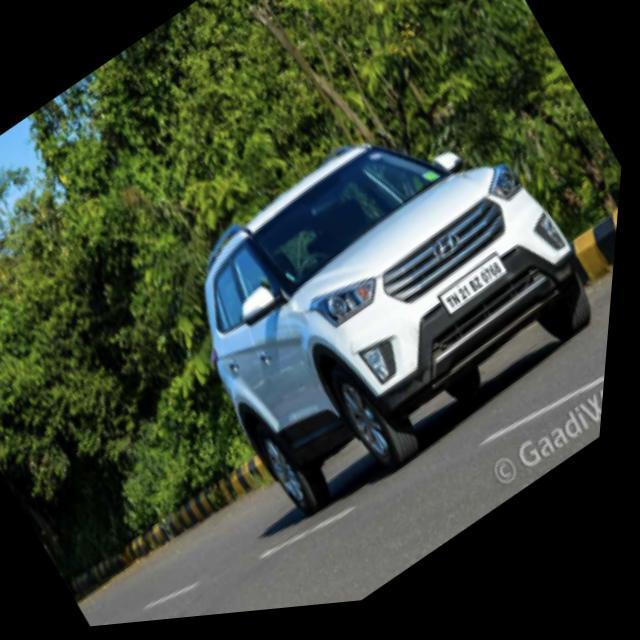license_plate: (433, 256, 520, 330)
